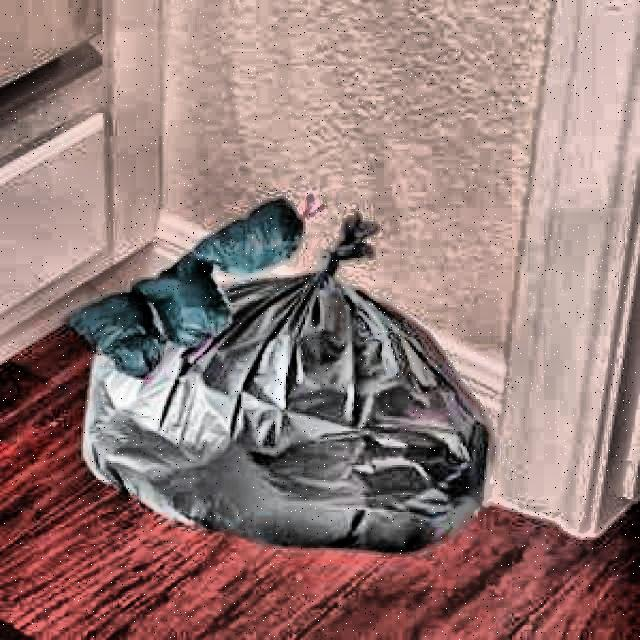Trashbag: (239, 262, 495, 559), (200, 200, 306, 272), (147, 258, 231, 348), (72, 299, 158, 375)
